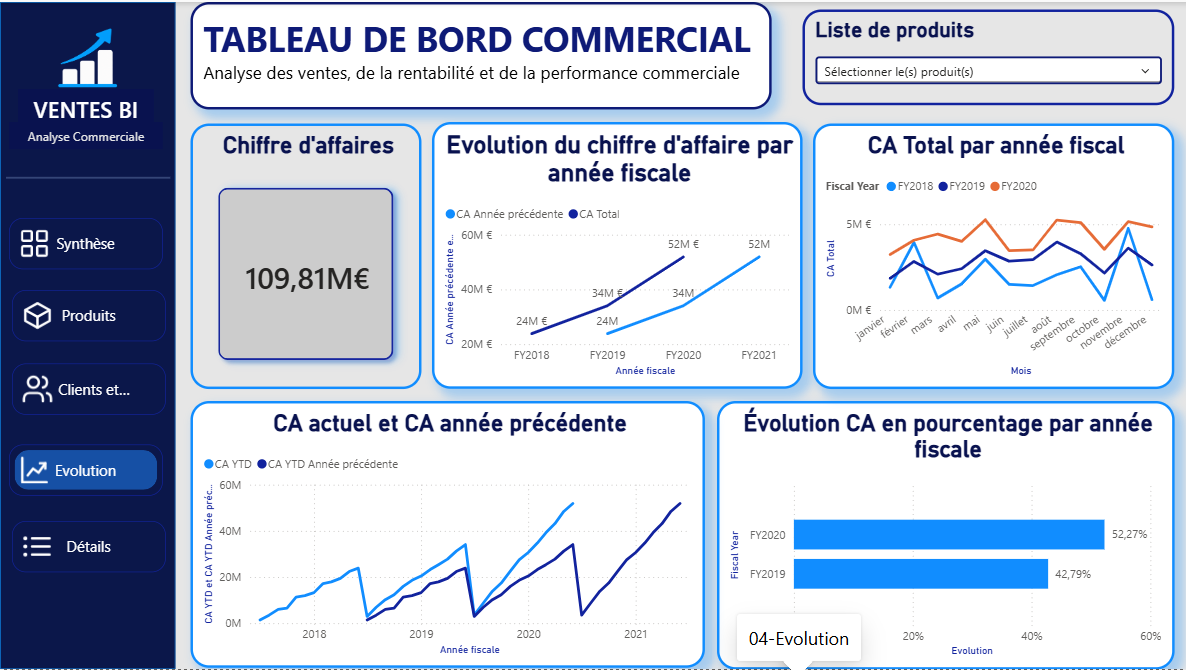

This screenshot's page, from the dashboard's own definition file:
{"tool":"powerbi","page":{"name":"04-Evolution ","canvas":[1280,720],"ordinal":3},"visuals":[{"type":"lineChart","title":"Evolution du chiffre d''affaire par année fiscale ","fields":{"Category":["Date_data.Fiscal Year"],"Y":["Mesure.CA Année précédente","Mesure.CA Total"]},"box":[466.3,129.5,399.9,288.2],"z":0},{"type":"clusteredBarChart","title":"Évolution CA en pourcentage par année fiscale","fields":{"Category":["Date_data.Fiscal Year"],"Y":["Mesure.Évolution CA %"]},"box":[774,430.7,493.9,289.8],"z":1000},{"type":"lineChart","title":"CA actuel et CA année précédente ","fields":{"Category":["Date_data.Month"],"Y":["Mesure.CA YTD","Mesure.CA YTD Année précédente"]},"box":[205.6,430.7,555.4,288.2],"z":2000},{"type":"lineChart","title":"CA Total par année fiscal","fields":{"Category":["Date_data.Nom du mois"],"Series":["Date_data.Fiscal Year"],"Y":["Mesure.CA Total"]},"box":[877.6,131.2,390.2,286.6],"z":3000},{"type":"shape","box":[0,0,189.5,720.2],"z":4000},{"type":"actionButton","box":[9.8,233.6,166.3,55],"z":5000},{"type":"actionButton","box":[12.2,310.6,166.3,55],"z":6000},{"type":"actionButton","box":[12.2,390.1,166,55],"z":7000},{"type":"actionButton","box":[9.8,478.1,166,55],"z":8000},{"type":"actionButton","box":[12.2,560.1,166,55],"z":9000},{"type":"textbox","box":[19.6,94.2,146.7,44],"z":10000},{"type":"textbox","box":[9.8,129.6,166.3,29.3],"z":11000},{"type":"shape","box":[6.1,183.4,177.3,13.5],"z":12000},{"type":"image","box":[0,0,189.5,119.8],"z":13000},{"type":"cardVisual","title":"Chiffre d''affaires ","fields":{"Data":["Mesure.CA Total"]},"box":[205.6,131.2,249.4,286.6],"z":14000},{"type":"listSlicer","title":"Liste de produits","fields":{"Values":["Product_data.Product"]},"box":[866.3,8.1,401.6,103.6],"z":15000},{"type":"textbox","box":[205.6,0,627.3,116.2],"z":16000}]}

Visuals, with their boxes on the page's 1280x720 design canvas (x1, y1, x2, y2). These are canvas units, not pixel positions in the 1186x670 screenshot, which may show the page scaled, cropped or inside an application window:
"Evolution du chiffre d''affaire par année fiscale " lineChart: box=[466, 130, 866, 418]
"Évolution CA en pourcentage par année fiscale" clusteredBarChart: box=[774, 431, 1268, 720]
"CA actuel et CA année précédente " lineChart: box=[206, 431, 761, 719]
"CA Total par année fiscal" lineChart: box=[878, 131, 1268, 418]
shape: box=[0, 0, 190, 720]
actionButton: box=[10, 234, 176, 289]
actionButton: box=[12, 311, 178, 366]
actionButton: box=[12, 390, 178, 445]
actionButton: box=[10, 478, 176, 533]
actionButton: box=[12, 560, 178, 615]
textbox: box=[20, 94, 166, 138]
textbox: box=[10, 130, 176, 159]
shape: box=[6, 183, 183, 197]
image: box=[0, 0, 190, 120]
"Chiffre d''affaires " cardVisual: box=[206, 131, 455, 418]
"Liste de produits" listSlicer: box=[866, 8, 1268, 112]
textbox: box=[206, 0, 833, 116]
